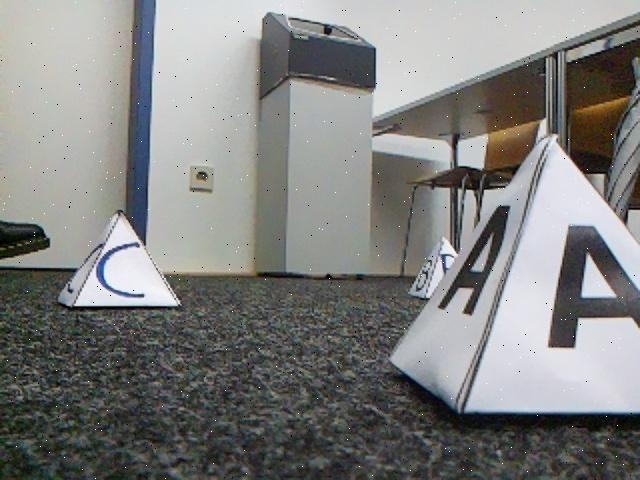A: (390, 137, 640, 416)
B: (409, 238, 468, 298)
C: (62, 212, 182, 307)
